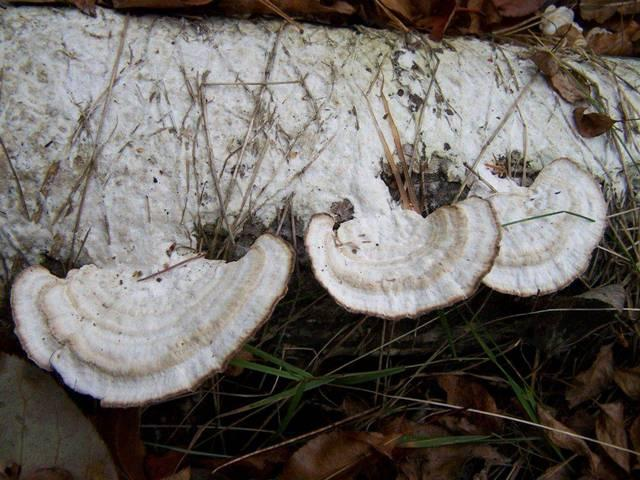poisonous_mushroom: (9, 230, 296, 409), (303, 194, 501, 320), (475, 155, 609, 297)
